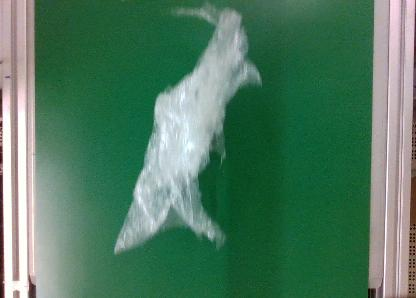Others: (113, 2, 263, 258)
